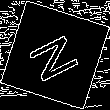N_NE: (24, 26, 86, 84)
